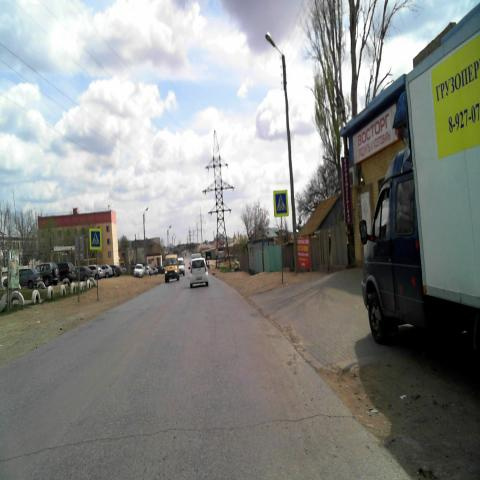5_19_1: (274, 192, 289, 216), (89, 229, 102, 251)
